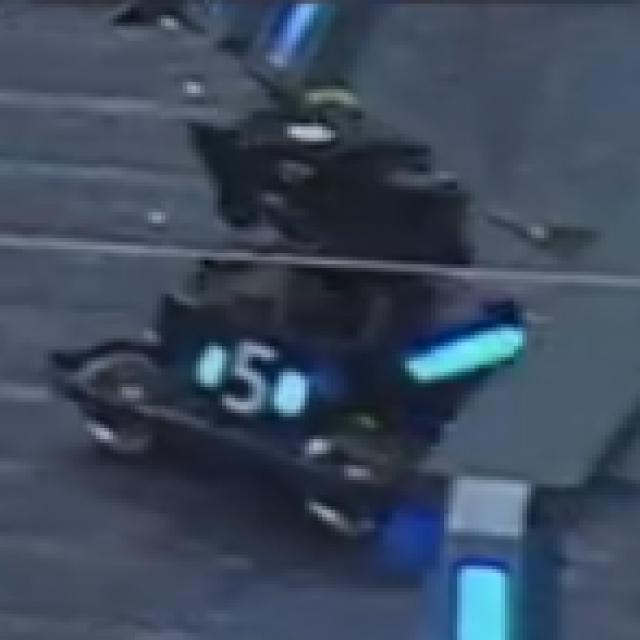B5: (187, 342, 305, 424)
